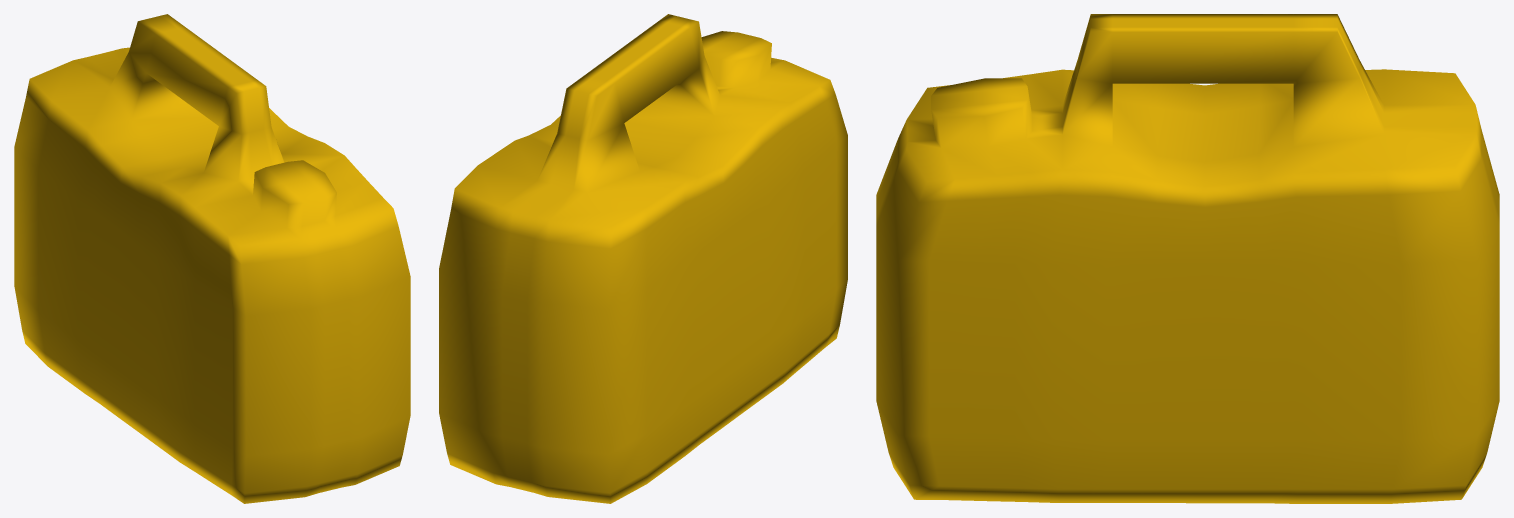
Rendered from GasCanister.fbx.
The picture shows the model from 3 angles, left to right: view 1: azimuth 30°, elevation 25°; view 2: azimuth 150°, elevation 25°; view 3: azimuth 270°, elevation 25°; orthographic projection. The views are drawn at different scales.
Parts seen in each view (by area): view 1: GasCanister; view 2: GasCanister; view 3: GasCanister.
Part boxes in pixels (x1,y1,x2,y2): GasCanister: (14,14,410,503); GasCanister: (439,14,847,503); GasCanister: (876,14,1499,503).
Size of the model in its own units: 35.38 by 65.42 by 85.99.
